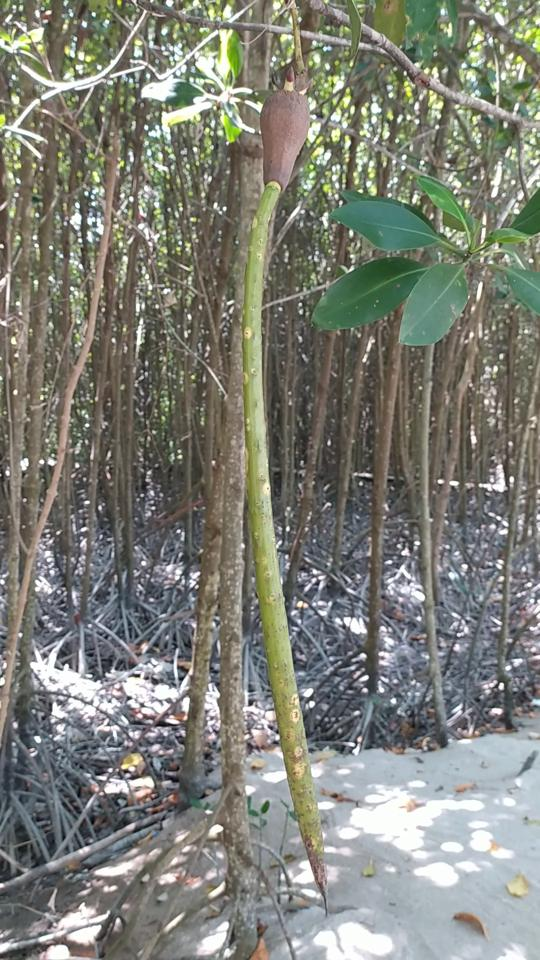setengah matang: (237, 56, 350, 916)
